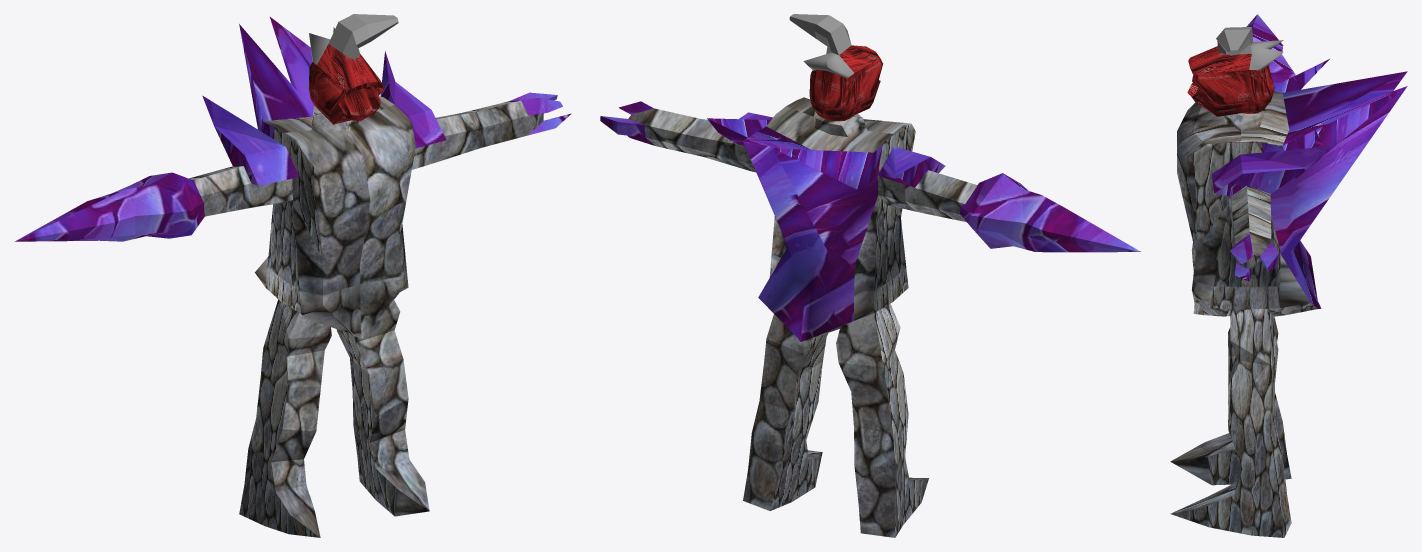
File: enemigoFuerte.fbx
3 renders of one model, left to right at view 1: azimuth 30°, elevation 25°; view 2: azimuth 150°, elevation 25°; view 3: azimuth 270°, elevation 25°, orthographic. The views are drawn at different scales.
Parts seen in each view (by area): view 1: Box001, Box002; view 2: Box001, Box002; view 3: Box001, Box002.
Boxes of the visible parts, x1,y1,x2,y2 form: Box001: (15,17,571,537); Box002: (308,14,398,124); Box001: (600,97,1140,537); Box002: (789,14,883,121); Box001: (1170,14,1407,537); Box002: (1187,27,1283,116).
Size of the model in its own units: 4.81 by 4.11 by 1.83.
6 materials, 4 textured.
